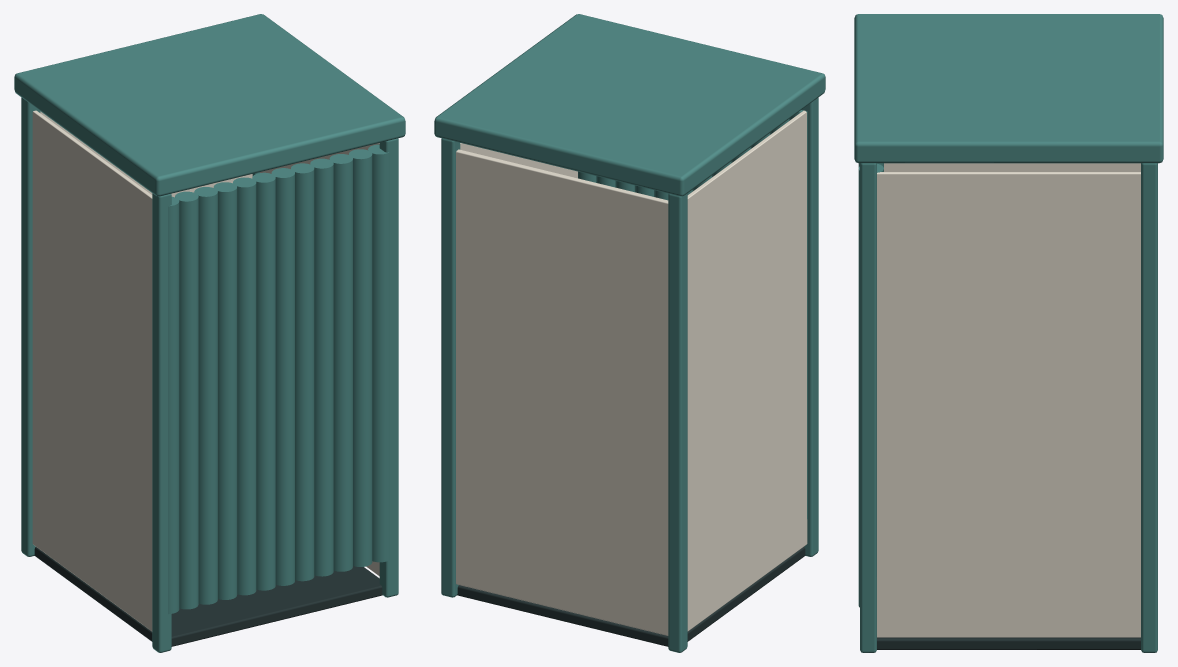
File: wp-cabine-d-essayage.glb
3 renders of one model, left to right at view 1: azimuth 30°, elevation 25°; view 2: azimuth 150°, elevation 25°; view 3: azimuth 270°, elevation 25°, orthographic. The views are drawn at different scales.
Parts seen in each view (by area): view 1: wp-cabine-d-essayage; view 2: wp-cabine-d-essayage; view 3: wp-cabine-d-essayage.
Boxes of the visible parts, x1,y1,x2,y2 form: wp-cabine-d-essayage: (14, 14, 405, 652); wp-cabine-d-essayage: (434, 14, 825, 652); wp-cabine-d-essayage: (854, 14, 1163, 652).
Bounding box in the file's own units: 1.2 × 2.2 × 1.2.
